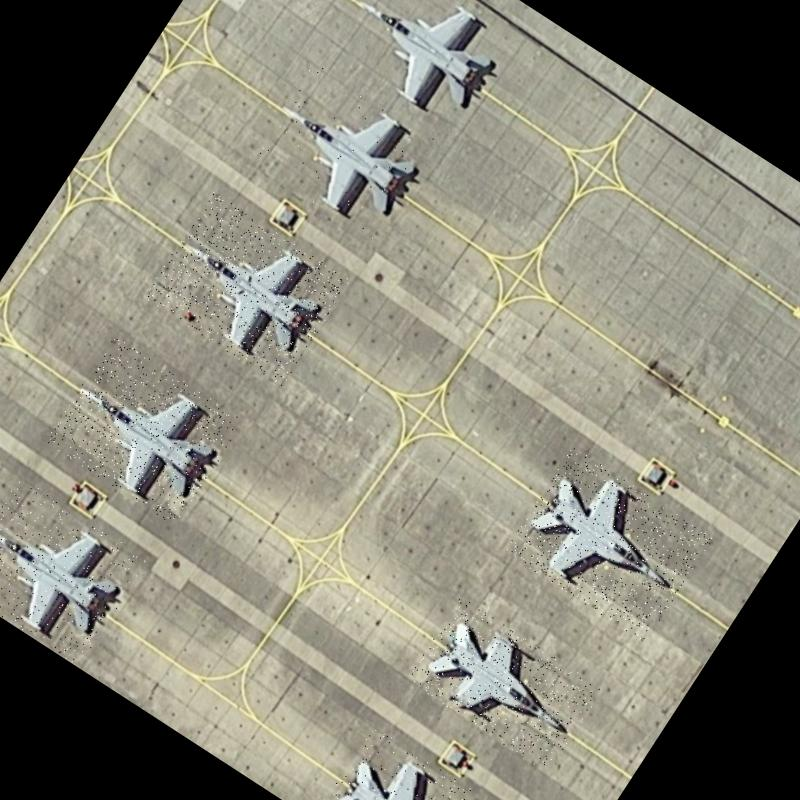A16: (504, 446, 714, 644), (143, 192, 351, 388), (45, 336, 245, 527), (247, 57, 446, 246), (406, 597, 604, 774), (0, 475, 148, 667), (324, 0, 523, 139), (313, 726, 509, 800)
